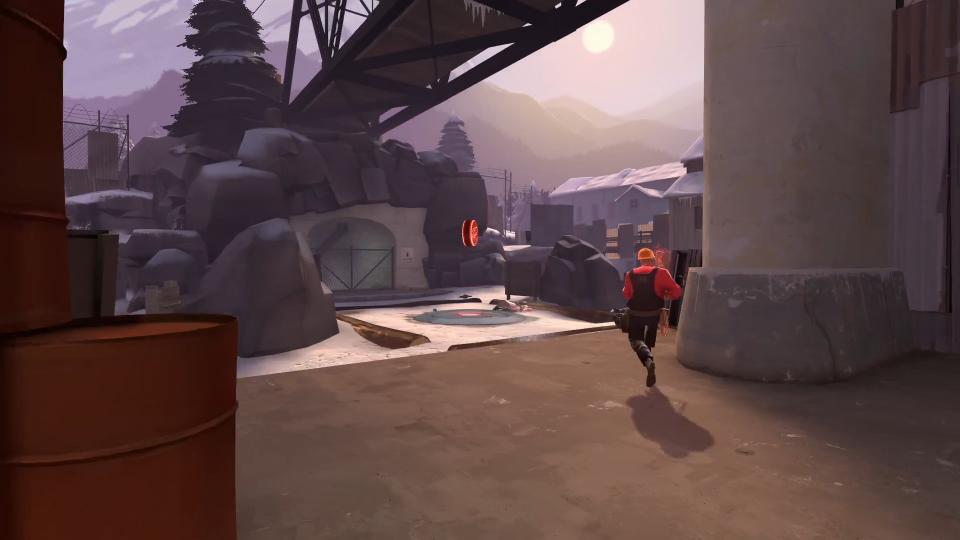Enemy: (595, 248, 695, 388)
